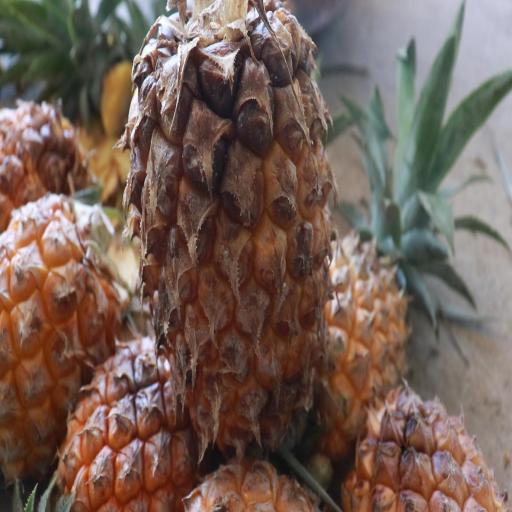Pineapple - v8 v1: (121, 0, 342, 452), (0, 187, 126, 483), (304, 204, 424, 474), (53, 337, 193, 512), (342, 380, 512, 512)
